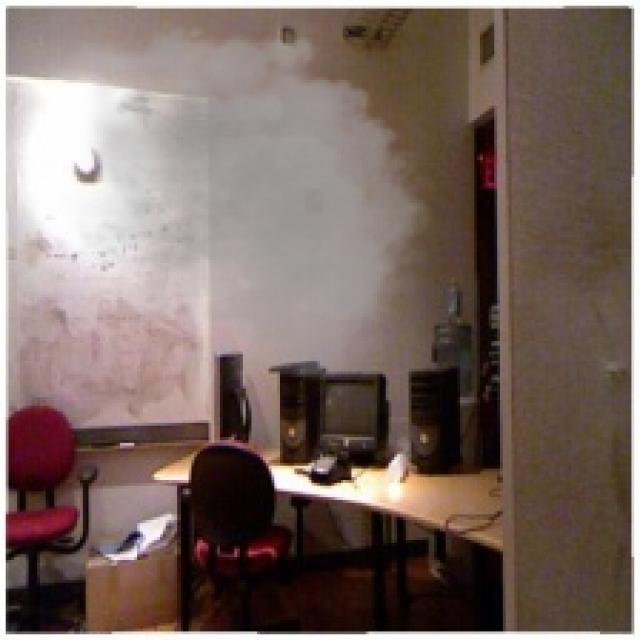smoke: (57, 9, 443, 392)
